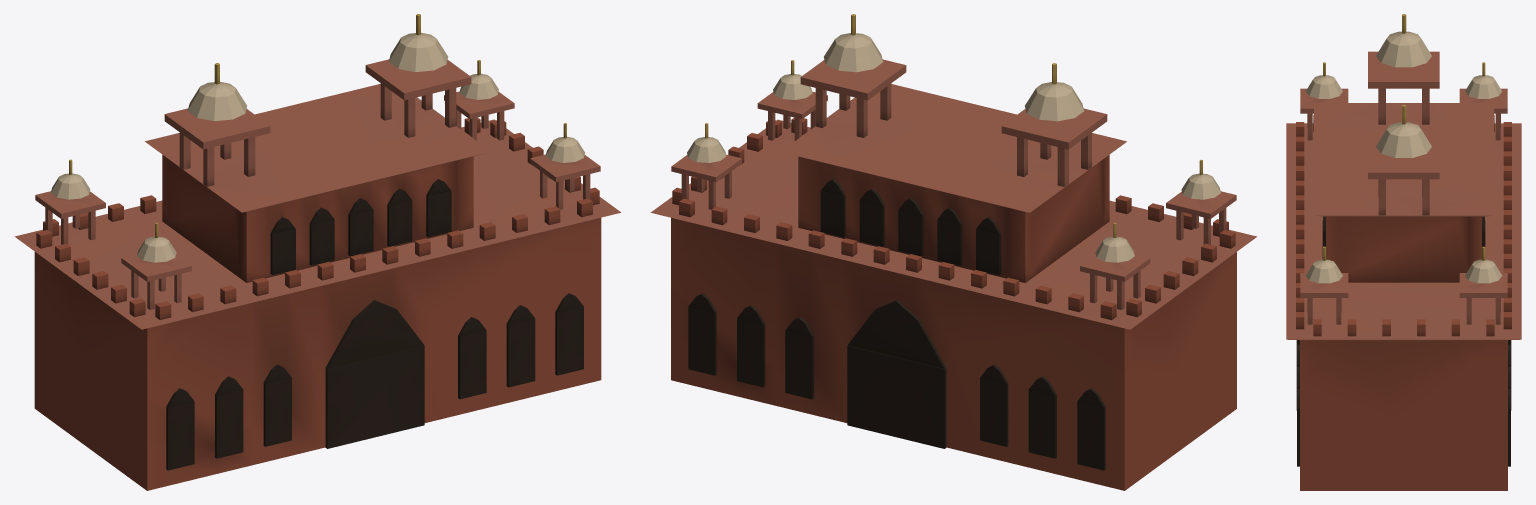
The model's file is naubat-khana.glb.
3 renders of one model, left to right at view 1: azimuth 30°, elevation 25°; view 2: azimuth 150°, elevation 25°; view 3: azimuth 270°, elevation 25°, orthographic. The views are drawn at different scales.
Visible parts, largest first — view 1: p0_gate, p1_drum gallery, p2_kiosks; view 2: p0_gate, p1_drum gallery, p2_kiosks; view 3: p0_gate, p1_drum gallery, p2_kiosks.
Boxes of the visible parts, left/top/right/bottom form: p0_gate: left=14, top=117, right=620, bottom=490; p1_drum gallery: left=145, top=84, right=490, bottom=282; p2_kiosks: left=35, top=14, right=600, bottom=309; p0_gate: left=650, top=117, right=1256, bottom=490; p1_drum gallery: left=781, top=84, right=1126, bottom=282; p2_kiosks: left=671, top=14, right=1236, bottom=309; p0_gate: left=1286, top=114, right=1521, bottom=490; p1_drum gallery: left=1314, top=103, right=1493, bottom=282; p2_kiosks: left=1300, top=14, right=1507, bottom=324.
Bounding box in the file's own units: 29.6 × 20.93 × 13.6.
